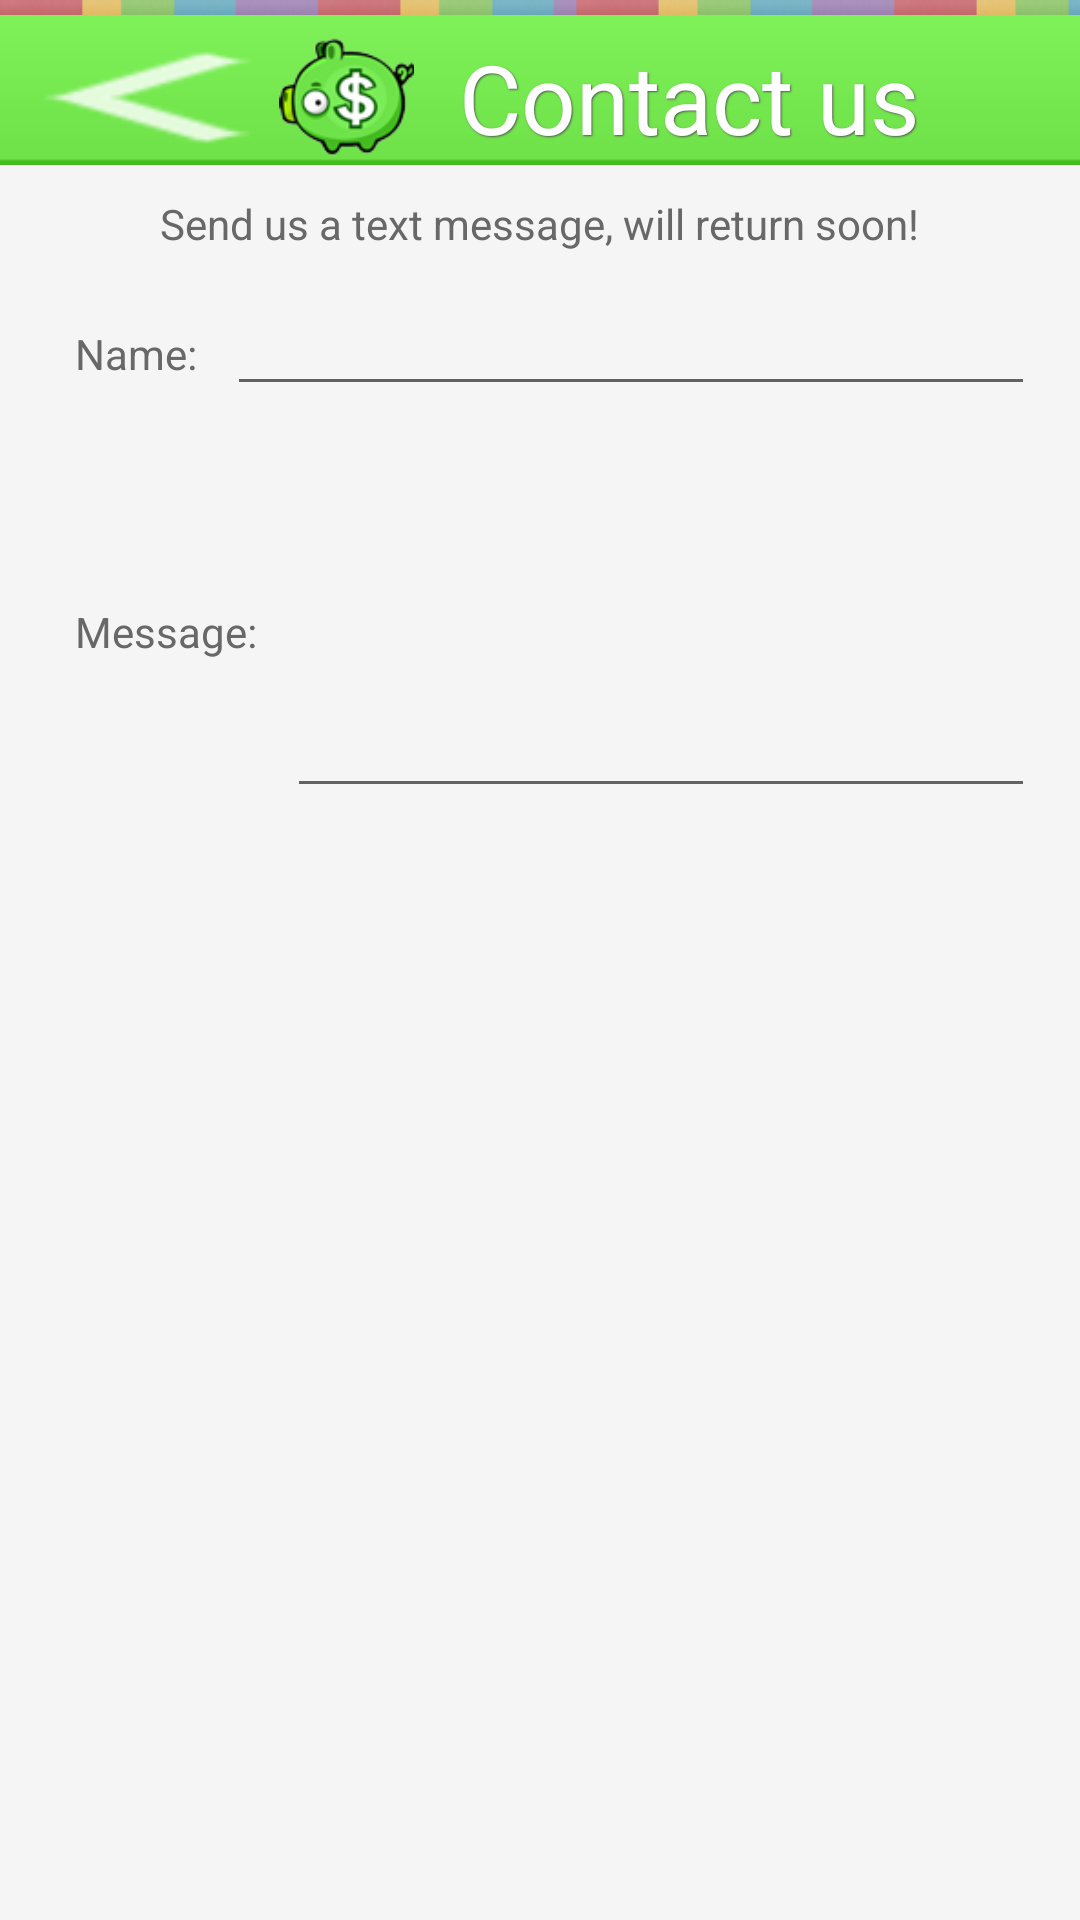

Icon click points for this 1080px×1920px phone screenshot, format (x=x, y=y):
voltar: (x=147, y=97)
